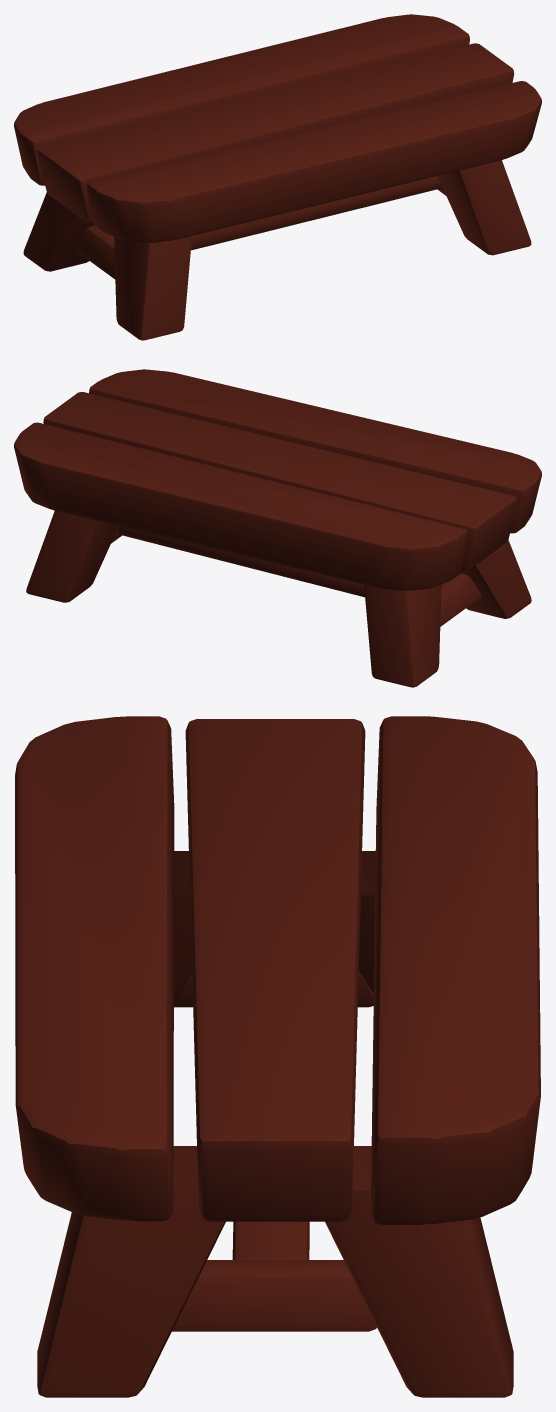
File: bench.obj
3 views of the same model, one above another, from view 1: azimuth 30°, elevation 25°; view 2: azimuth 150°, elevation 25°; view 3: azimuth 270°, elevation 25° (orthographic). The views are drawn at different scales.
Parts seen in each view (by area): view 1: bench_Cube.3055; view 2: bench_Cube.3055; view 3: bench_Cube.3055.
Boxes of the visible parts, x1,y1,x2,y2 form: bench_Cube.3055: [14, 14, 541, 340]; bench_Cube.3055: [14, 369, 541, 687]; bench_Cube.3055: [15, 716, 540, 1397].
Size of the model in its own units: 1.45 by 0.4556 by 0.7531.
